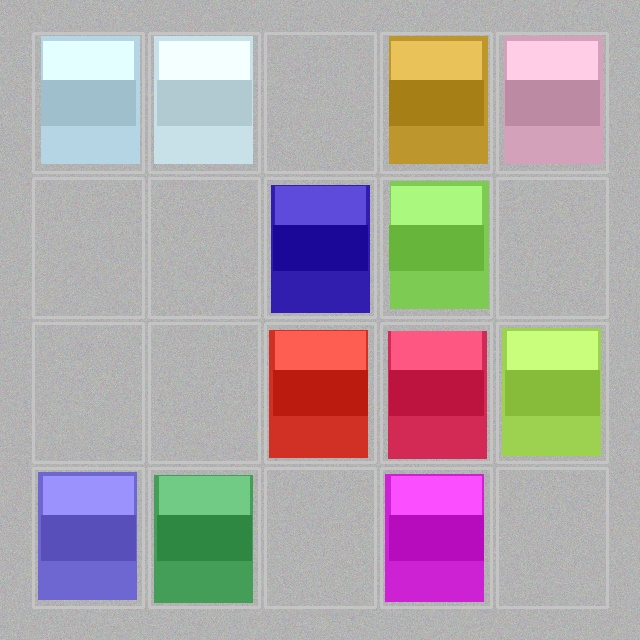space-empty: (267, 35, 373, 170), (35, 180, 141, 315), (151, 180, 257, 315), (499, 180, 605, 315), (35, 325, 141, 460), (151, 325, 257, 460), (267, 470, 373, 605), (499, 470, 605, 605)
space-occupied: (35, 35, 141, 170), (151, 35, 257, 170), (383, 35, 489, 170), (499, 35, 605, 170), (267, 180, 373, 315), (383, 180, 489, 315), (267, 325, 373, 460), (383, 325, 489, 460), (499, 325, 605, 460), (35, 470, 141, 605), (151, 470, 257, 605), (383, 470, 489, 605)
